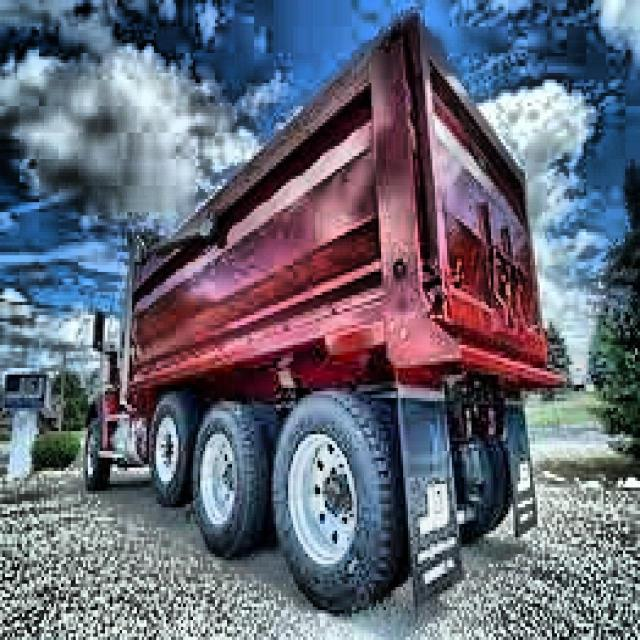dump_truck: (85, 13, 561, 611)
